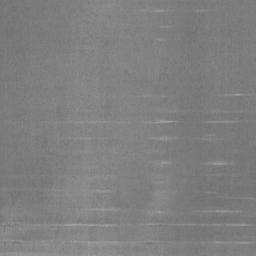Waist folding: (0, 173, 256, 256), (56, 108, 256, 143), (83, 3, 208, 43), (57, 68, 202, 99), (152, 148, 256, 177), (0, 6, 29, 13), (223, 92, 256, 98), (236, 70, 256, 72)
